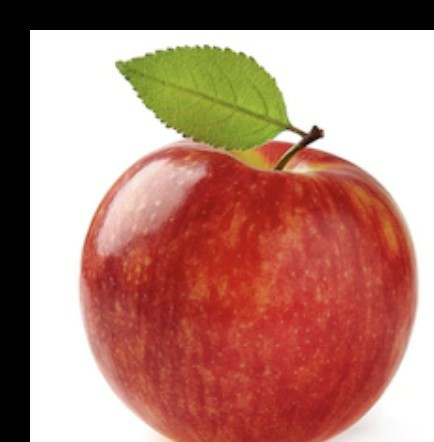fresh_apple: (78, 132, 427, 442)
